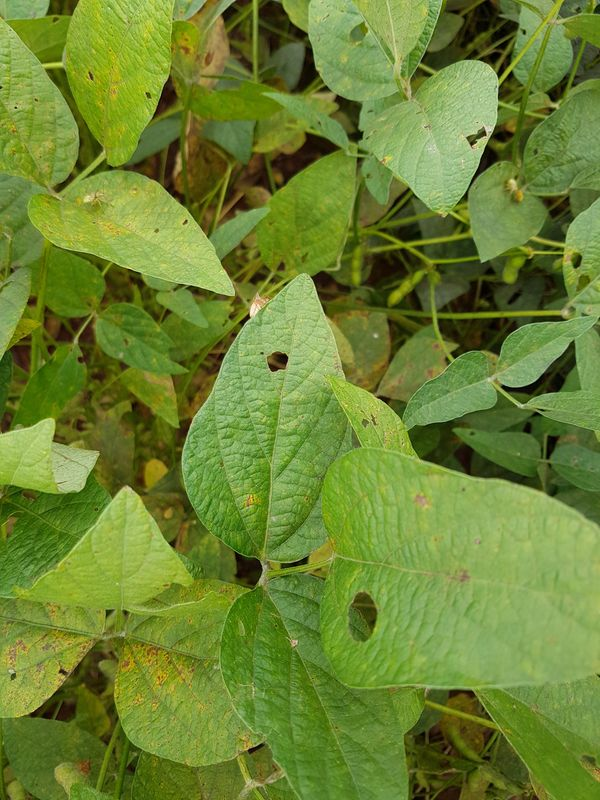Euschistus_heros_adulto: (244, 287, 275, 325)
Euschistus_heros_ninfa: (76, 185, 113, 215)
